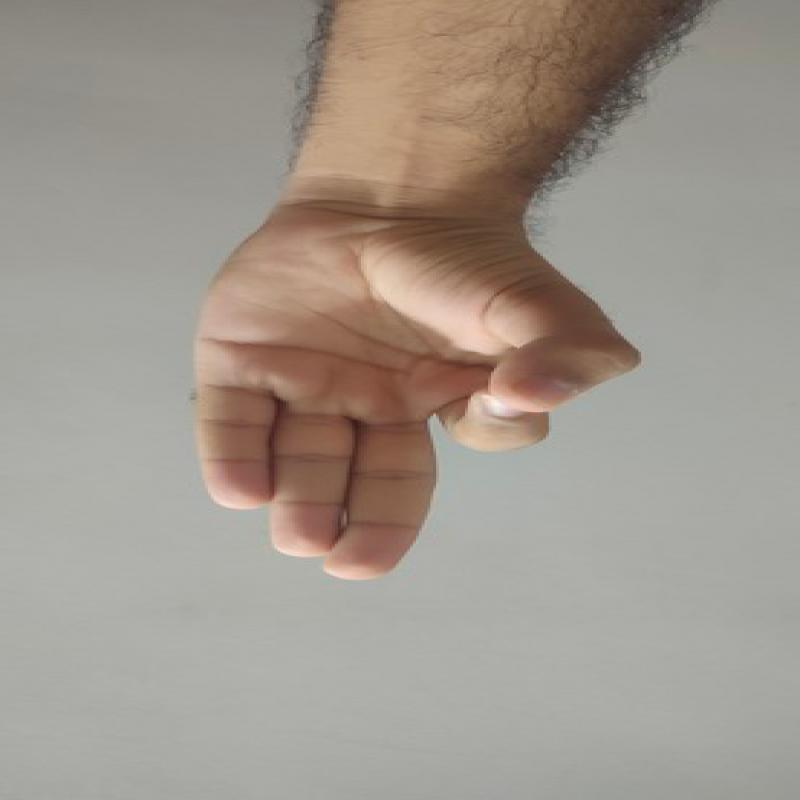Mudraakhyam: (170, 191, 646, 594)
